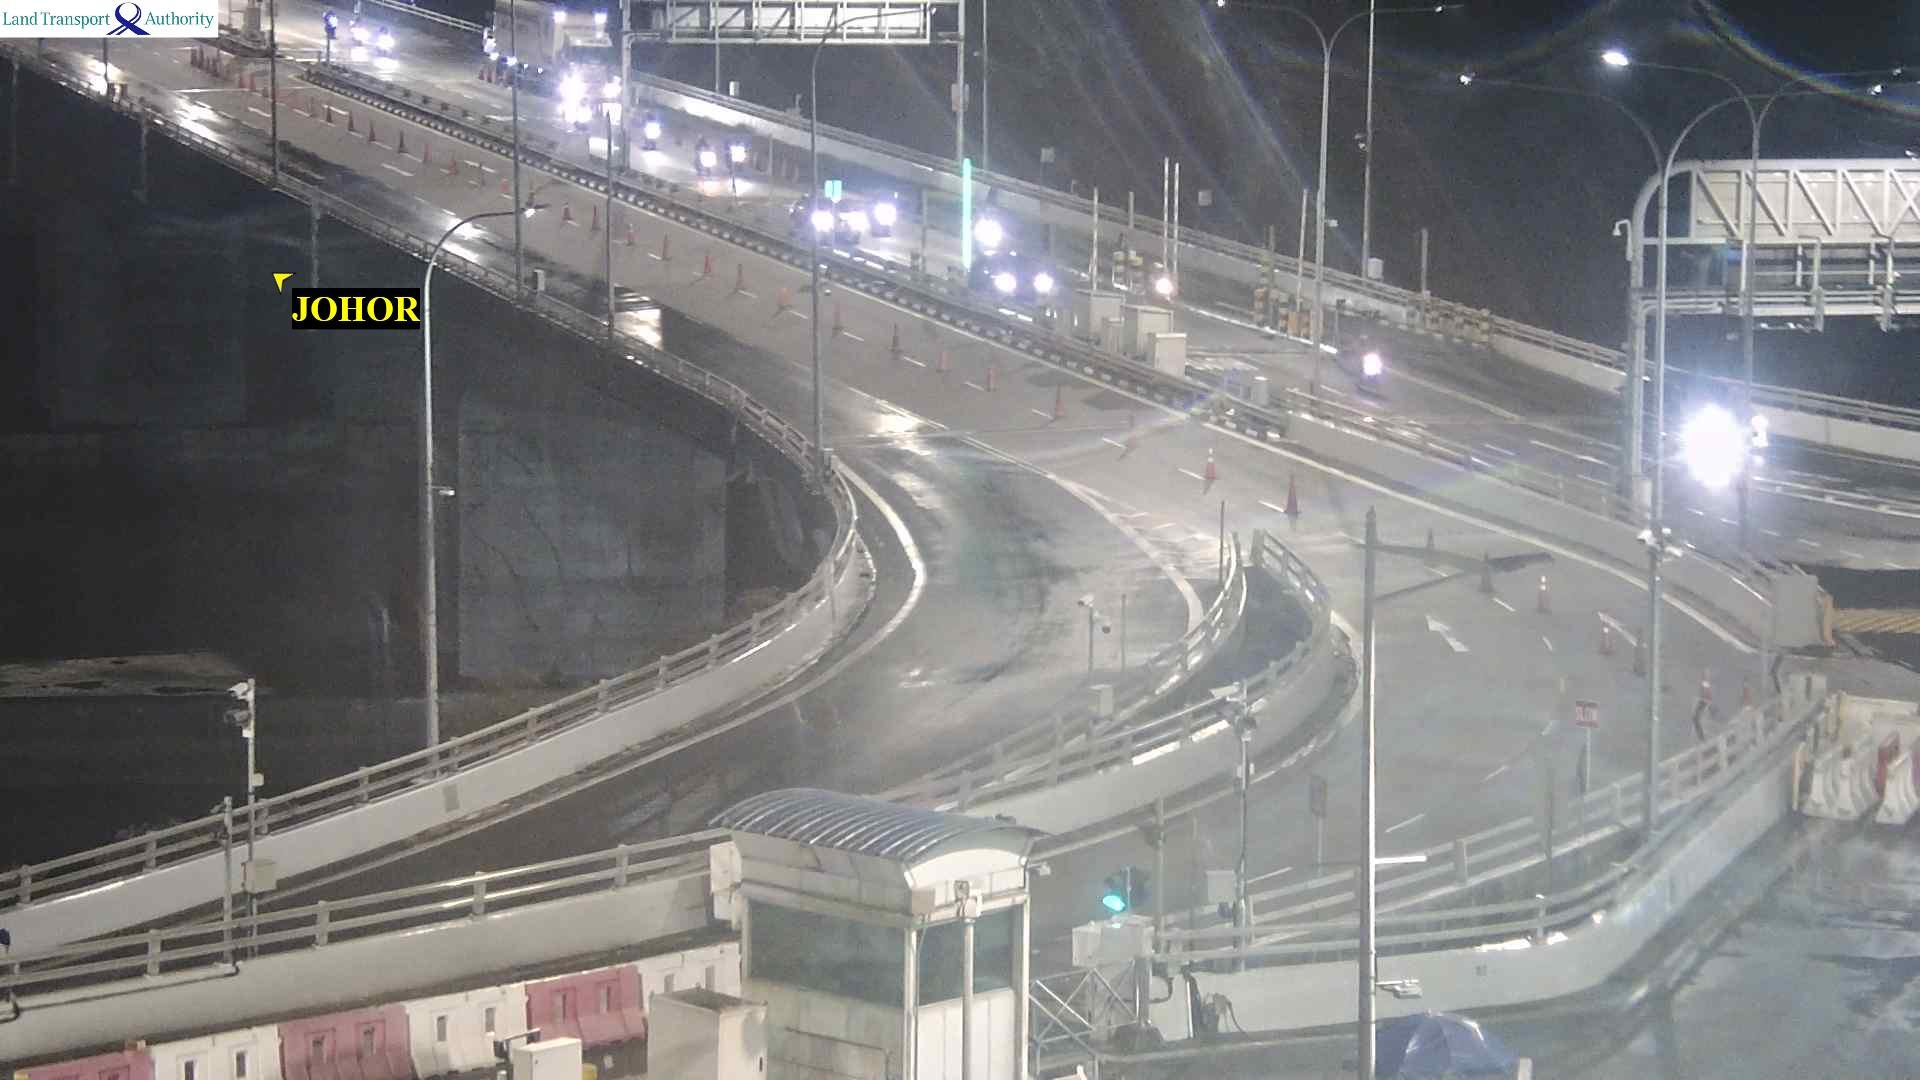vehicle-secondlink-singapore: (497, 3, 611, 92), (990, 252, 1064, 302), (1337, 334, 1391, 394), (790, 195, 860, 241), (866, 182, 901, 236), (704, 133, 735, 182), (708, 136, 745, 170), (975, 207, 998, 249), (644, 121, 663, 154), (348, 20, 364, 46), (378, 24, 390, 54), (324, 11, 335, 34)
